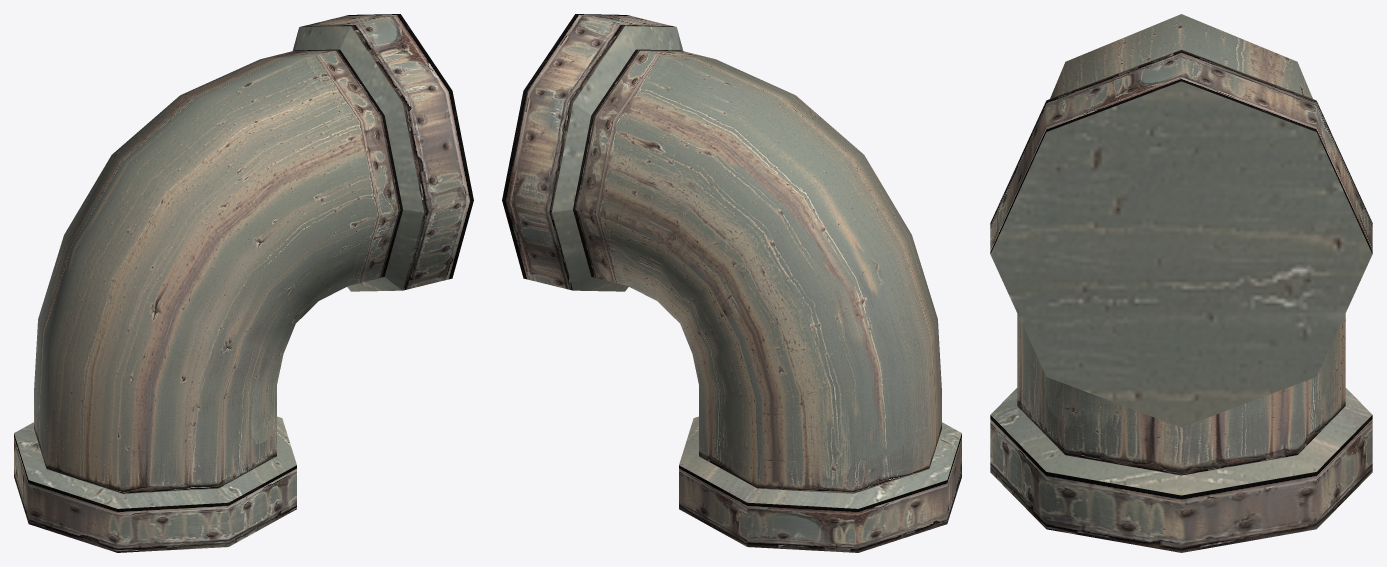
File: pipe_curve.fbx
3 renders of one model, left to right at view 1: azimuth 30°, elevation 25°; view 2: azimuth 150°, elevation 25°; view 3: azimuth 270°, elevation 25°, orthographic. The views are drawn at different scales.
Visible parts, largest first — view 1: Mesh Object; view 2: Mesh Object; view 3: Mesh Object.
Boxes of the visible parts, x1,y1,x2,y2 form: Mesh Object: (14,14,473,552); Mesh Object: (502,14,961,552); Mesh Object: (990,14,1372,552).
Size of the model in its own units: 1.07 by 1.15 by 0.7284.
